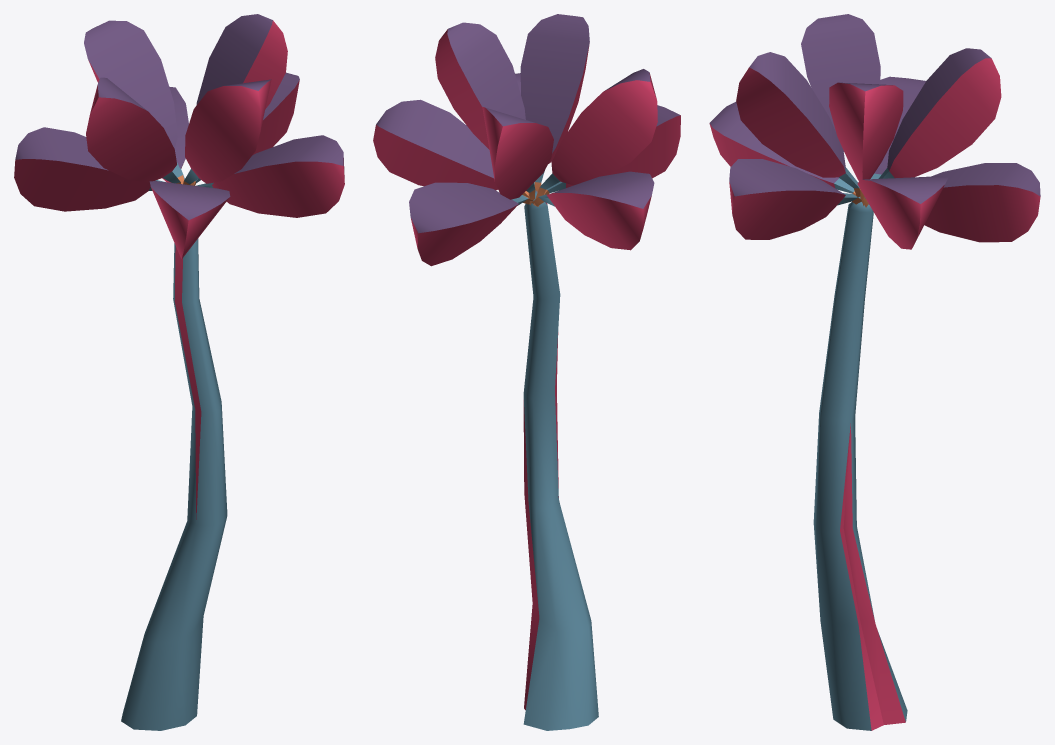
File: Tree_2.fbx
The picture shows the model from 3 angles, left to right: view 1: azimuth 30°, elevation 25°; view 2: azimuth 150°, elevation 25°; view 3: azimuth 270°, elevation 25°; orthographic projection. The views are drawn at different scales.
Parts seen in each view (by area): view 1: Tree_2; view 2: Tree_2; view 3: Tree_2.
Part boxes in pixels (bbox=[...]): Tree_2: bbox=[14, 14, 344, 730]; Tree_2: bbox=[373, 14, 680, 730]; Tree_2: bbox=[709, 14, 1040, 730].
Size of the model in its own units: 254 by 586 by 258.
